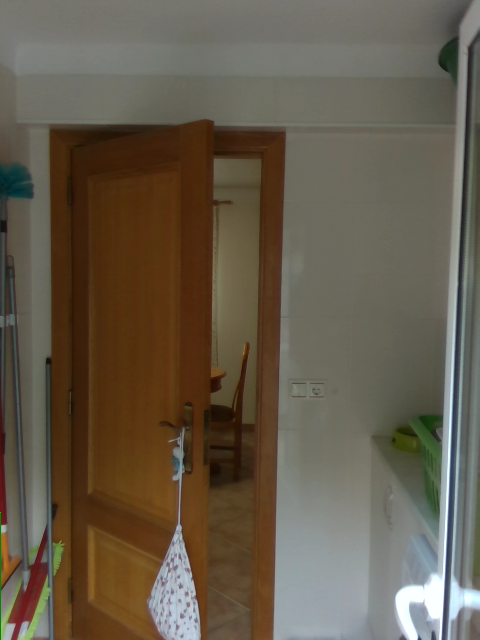semi: (45, 124, 290, 639)
